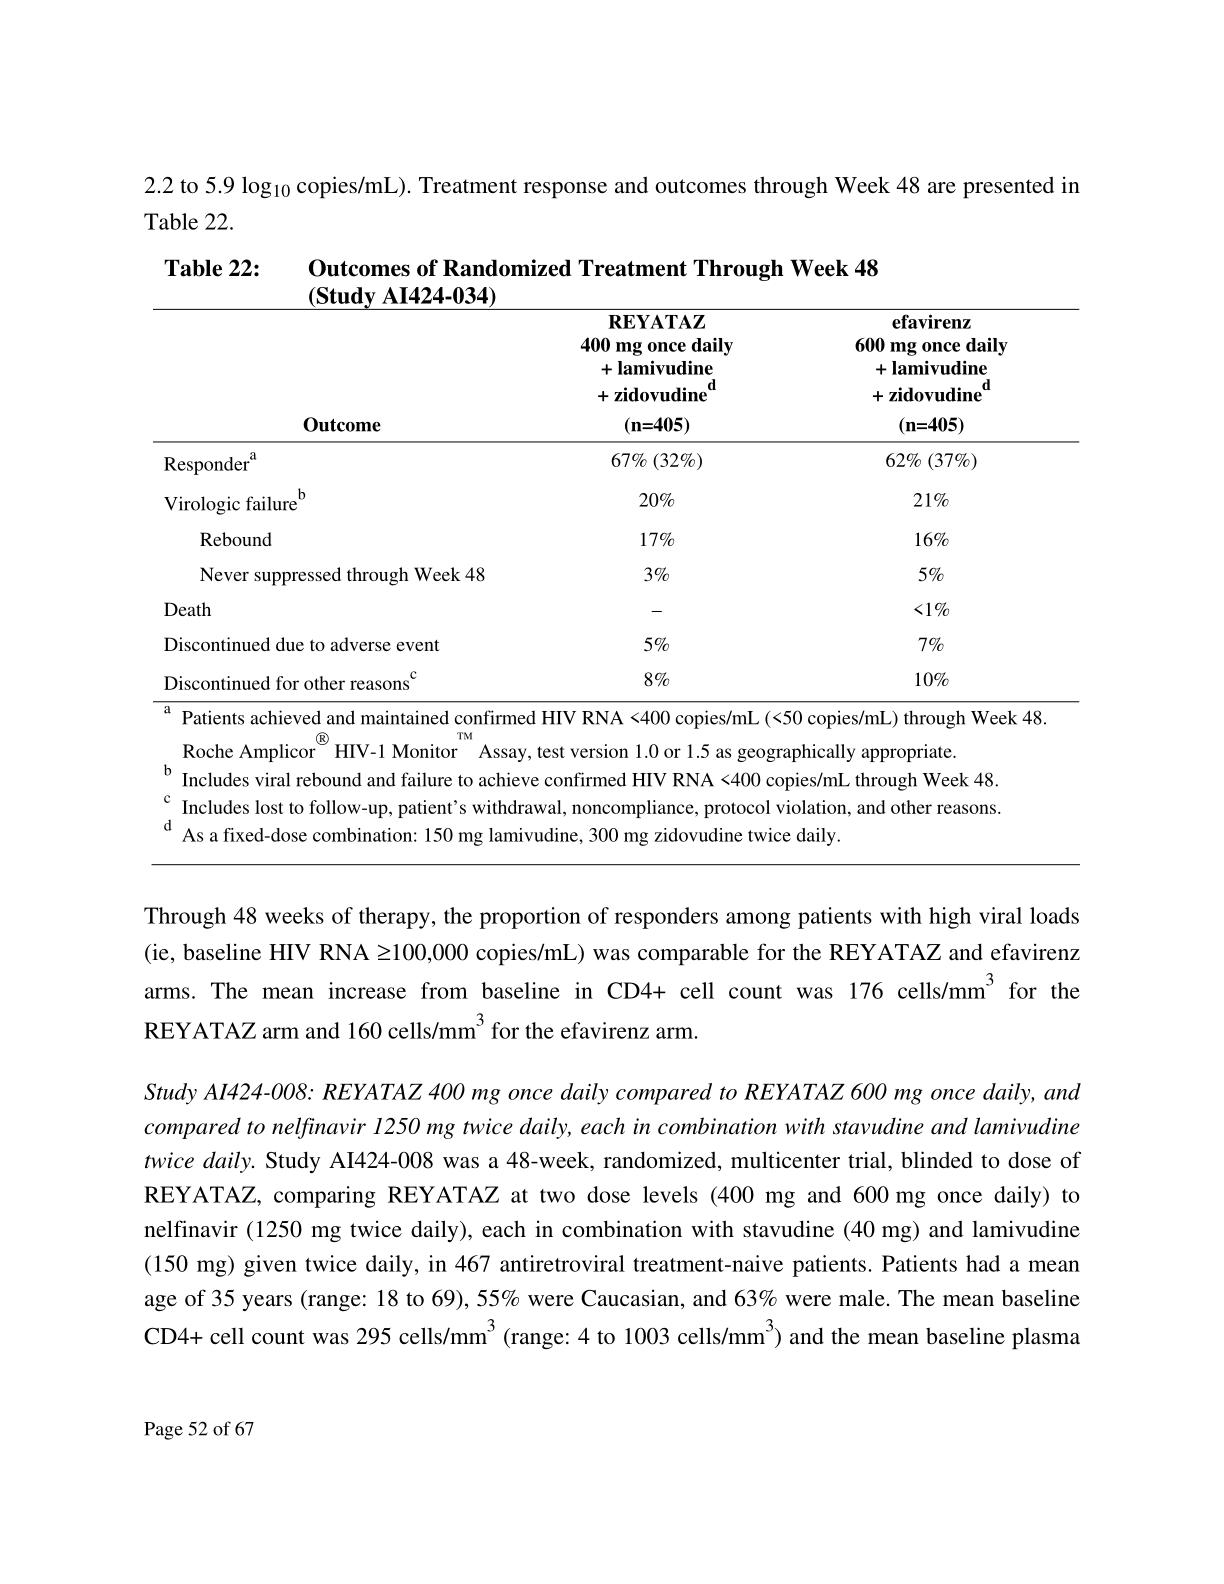partial_lined: (152, 306, 1081, 705)
